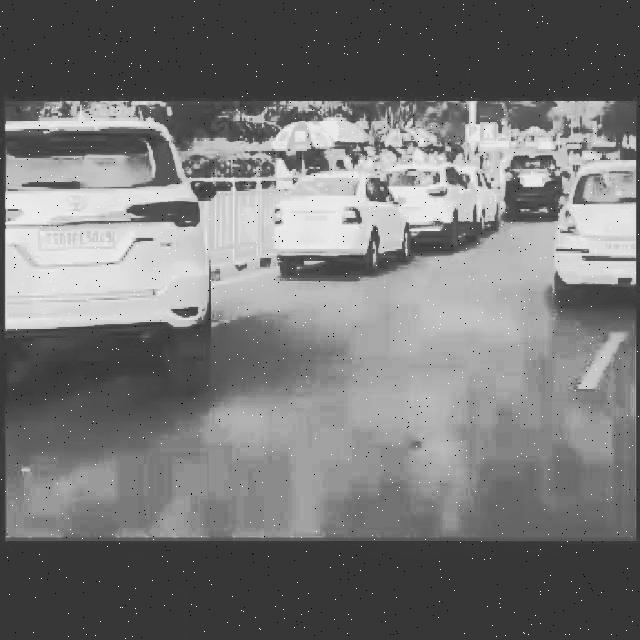Car: (0, 111, 222, 362), (269, 160, 415, 271), (554, 160, 640, 289), (384, 155, 476, 249), (504, 140, 573, 226), (460, 156, 514, 222)
